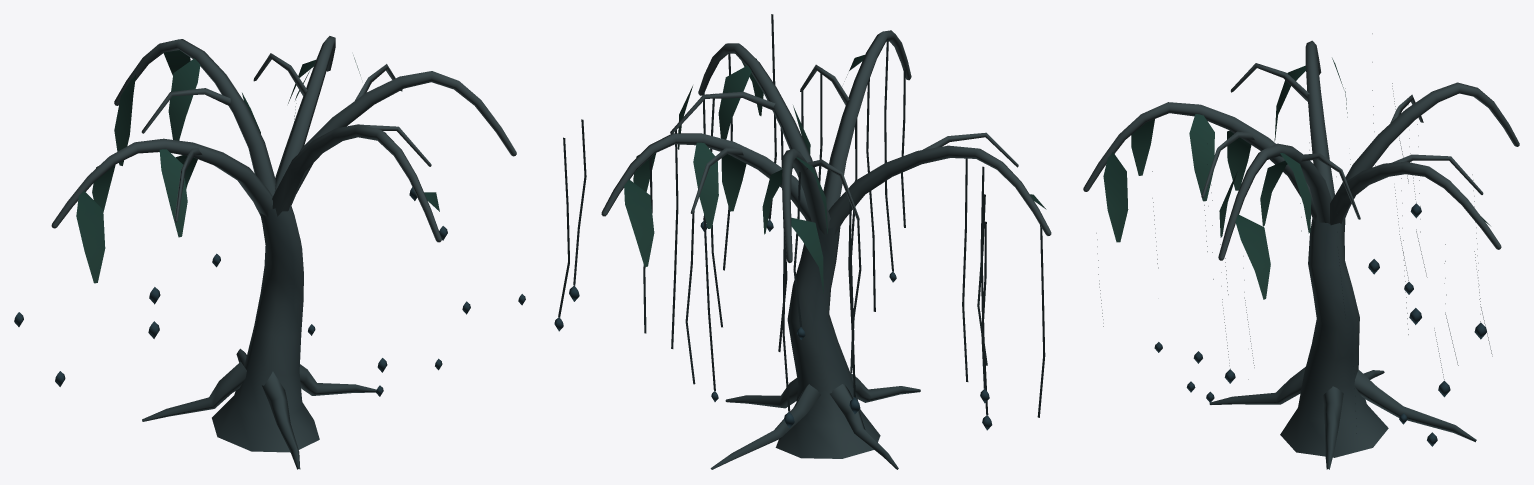
Rendered from weepingTree_lod1.glb.
3 views of the same model, side by side, from view 1: azimuth 30°, elevation 25°; view 2: azimuth 150°, elevation 25°; view 3: azimuth 270°, elevation 25° (orthographic). The views are drawn at different scales.
Visible parts, largest first — view 1: weeping tree; view 2: weeping tree; view 3: weeping tree.
Boxes of the visible parts, x1,y1,x2,y2 form: weeping tree: (14,36,525,469); weeping tree: (554,14,1051,469); weeping tree: (1083,33,1519,469).
Size of the model in its own units: 10.37 by 8.04 by 8.9.
